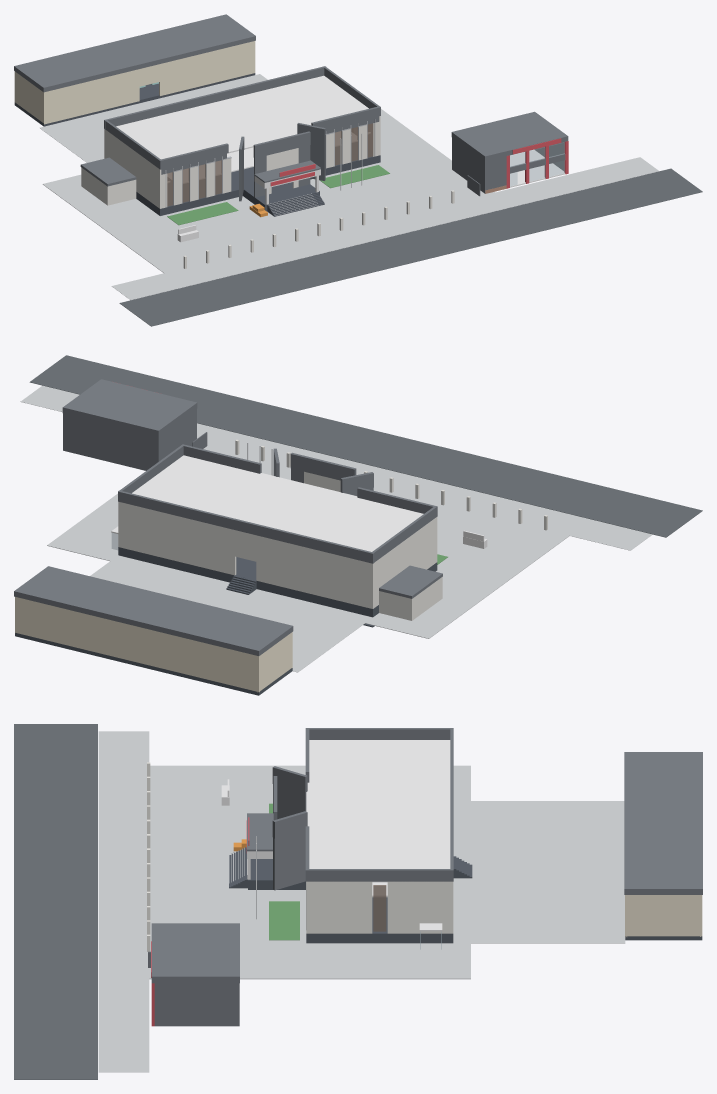
The model's file is turon_odob_ilm_3d.glb.
3 views of the same model, one above another, from view 1: azimuth 30°, elevation 25°; view 2: azimuth 150°, elevation 25°; view 3: azimuth 270°, elevation 25° (orthographic). The views are drawn at different scales.
Parts seen in each view (by area): view 1: Turon_Odob_Ilm_Furqat_v2; view 2: Turon_Odob_Ilm_Furqat_v2; view 3: Turon_Odob_Ilm_Furqat_v2.
Boxes of the visible parts, left/top/right/bottom form: Turon_Odob_Ilm_Furqat_v2: left=14, top=14, right=702, bottom=326; Turon_Odob_Ilm_Furqat_v2: left=14, top=355, right=702, bottom=695; Turon_Odob_Ilm_Furqat_v2: left=14, top=724, right=702, bottom=1079.
Size of the model in its own units: 120 by 14.11 by 98.3.
